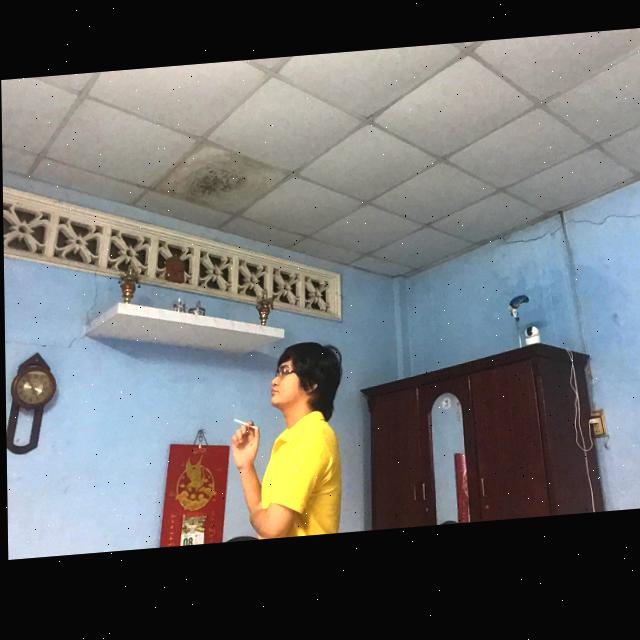cigarette: (232, 420, 256, 435)
